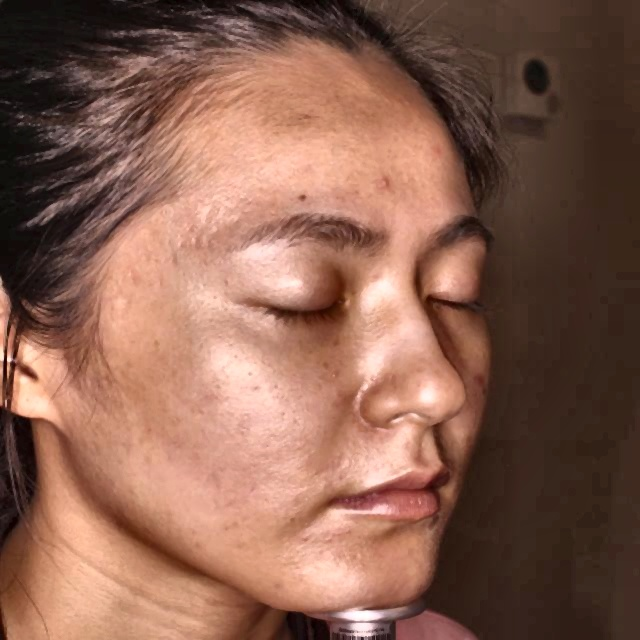comedone: (427, 142, 464, 167), (375, 172, 396, 197), (468, 368, 486, 388)
